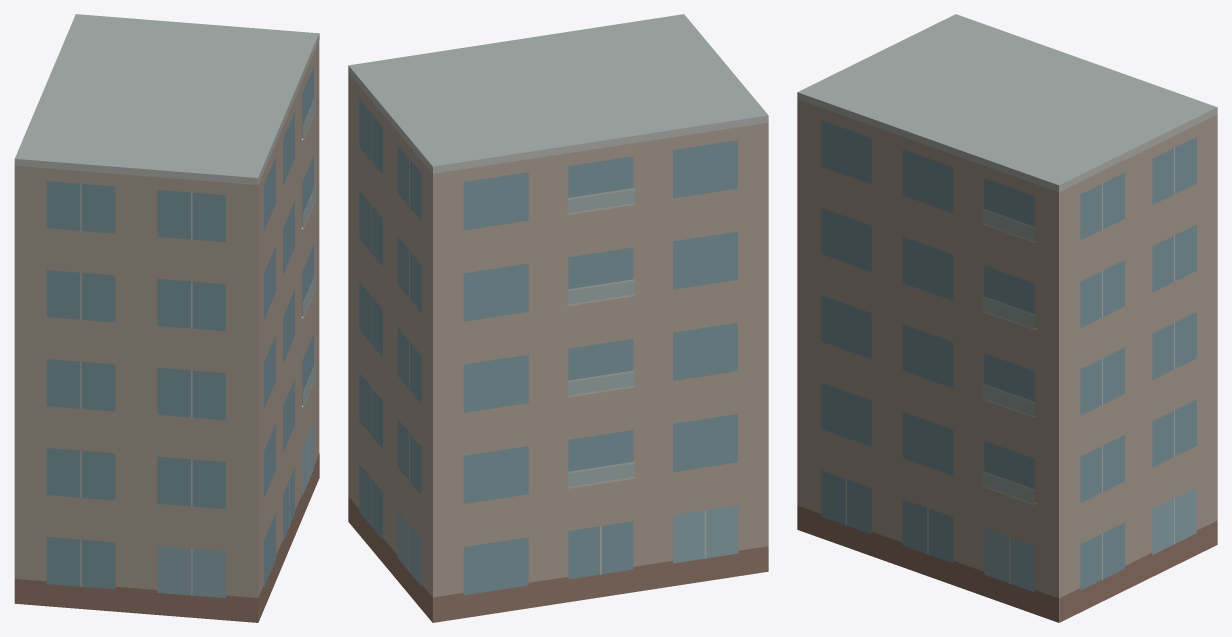
The model's file is survey-upis-32716215.glb.
3 renders of one model, left to right at view 1: azimuth 30°, elevation 25°; view 2: azimuth 150°, elevation 25°; view 3: azimuth 270°, elevation 25°, orthographic. The views are drawn at different scales.
Parts seen in each view (by area): view 1: survey-upis-32716215.tmp; view 2: survey-upis-32716215.tmp; view 3: survey-upis-32716215.tmp.
Part boxes in pixels (box(x1,y1,x2,y2)): survey-upis-32716215.tmp: box(14, 14, 319, 622); survey-upis-32716215.tmp: box(348, 14, 768, 622); survey-upis-32716215.tmp: box(797, 14, 1217, 622).
Size of the model in its own units: 12.91 by 15.35 by 13.37.
